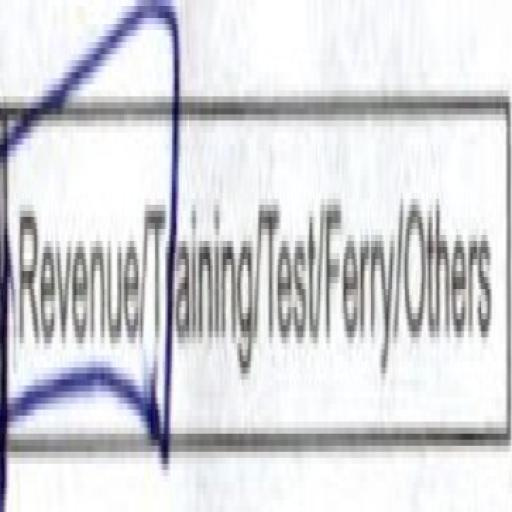check: (0, 0, 157, 477)
